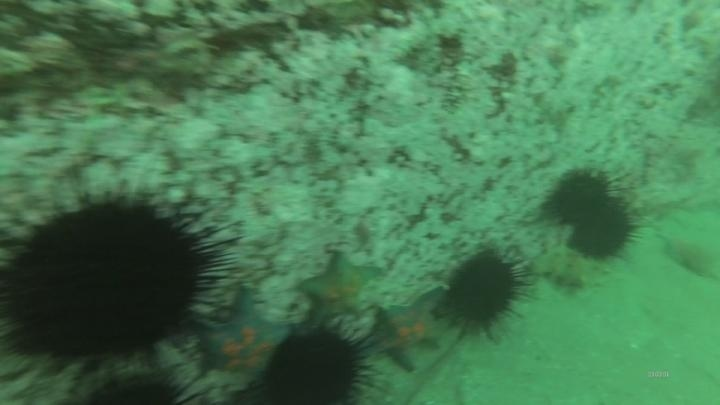echinus: (1, 183, 232, 370), (543, 165, 640, 264), (438, 245, 531, 339), (260, 326, 372, 404), (74, 362, 196, 404), (566, 198, 640, 263), (544, 165, 618, 229)
holothurian: (529, 244, 616, 295)
starfish: (195, 284, 294, 383), (298, 250, 384, 325), (370, 293, 448, 374)
